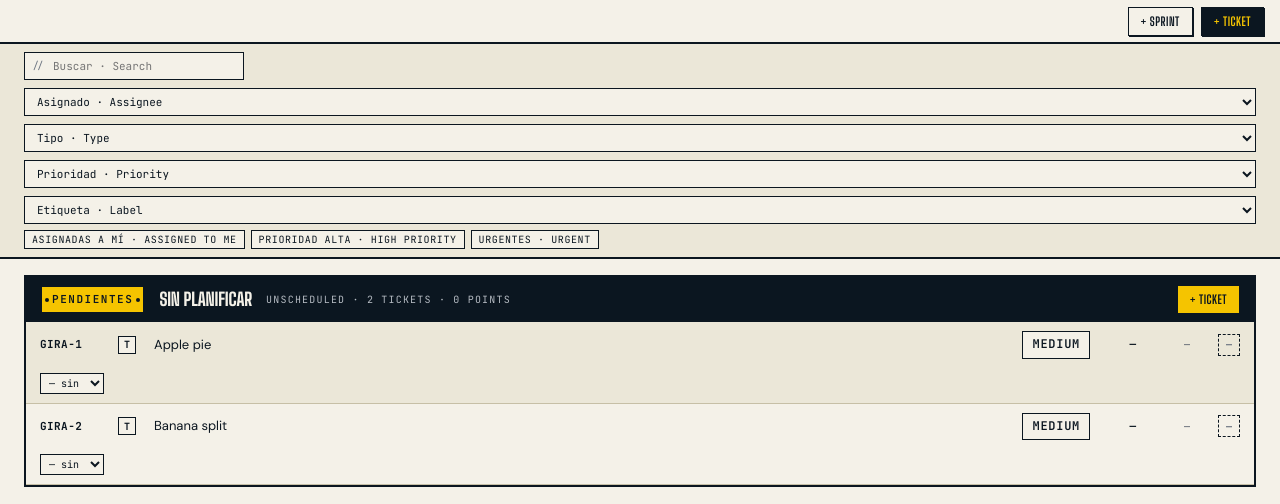
it: BacklogPage (coverage) › uses FilterBar results to override the backlog list when a filter is active
Expected: the text "Apple pie" is shown, [154,336,211,353]
Type "banana" into the search field named "Buscar tickets · Search issues" at (134, 66), box [24,52,244,80]
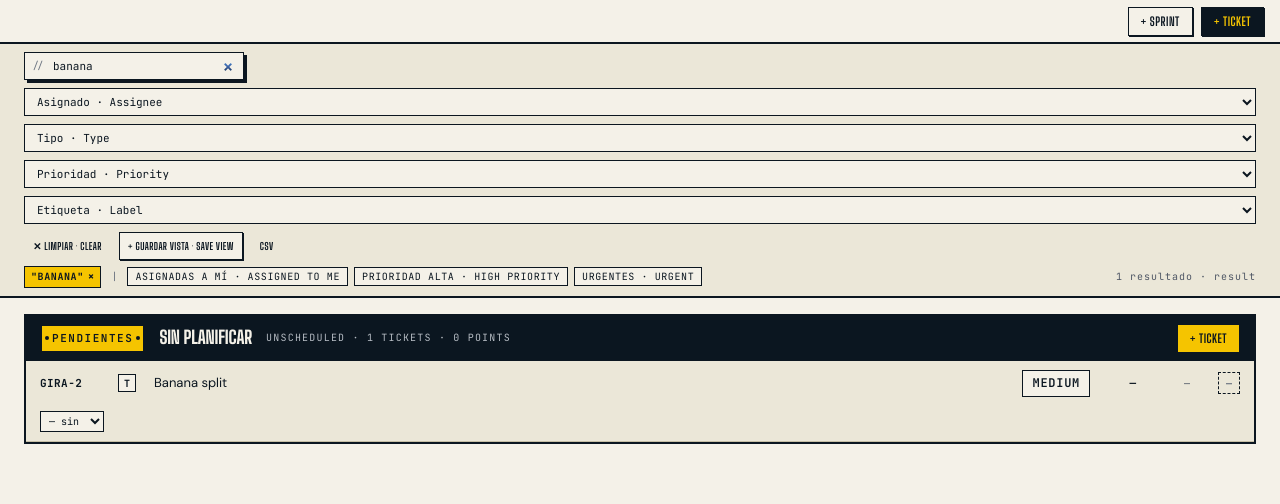
Expected: the text "Banana split" is shown, [154,374,227,391]
Expected: the text "Apple pie" is gone
